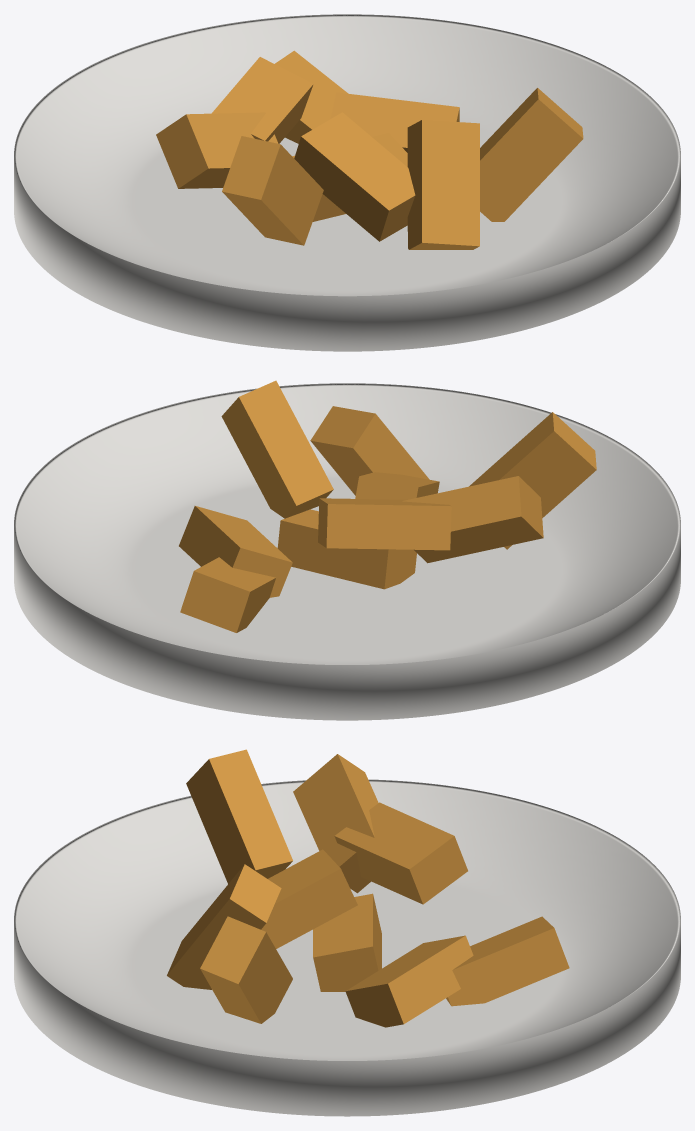
Rendered from empanados-1-hero.glb.
The picture shows the model from 3 angles, top to bottom: view 1: azimuth 30°, elevation 25°; view 2: azimuth 150°, elevation 25°; view 3: azimuth 270°, elevation 25°; orthographic projection.
Bounding box in the file's own units: 0.24 × 0.0643 × 0.24.
